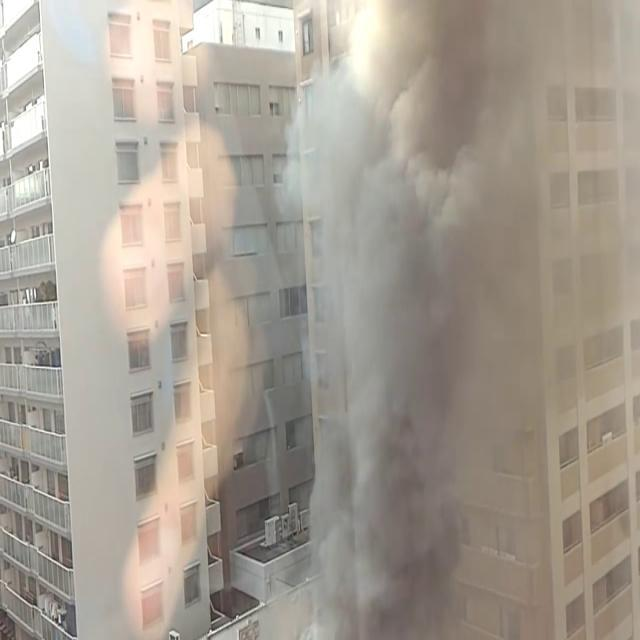Smoke: (284, 1, 558, 636)
